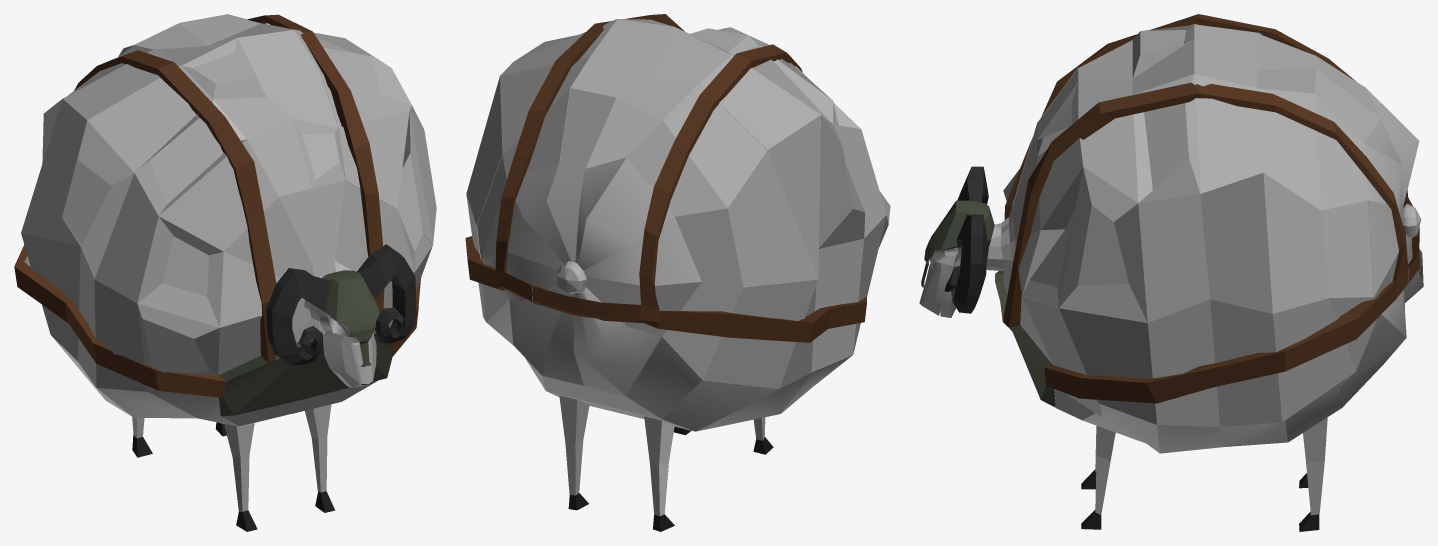
The model's file is Sheep.fbx.
3 renders of one model, left to right at view 1: azimuth 30°, elevation 25°; view 2: azimuth 150°, elevation 25°; view 3: azimuth 270°, elevation 25°, orthographic. The views are drawn at different scales.
Visible parts, largest first — view 1: Sheep1; view 2: Sheep1; view 3: Sheep1.
Part boxes in pixels (x1,y1,x2,y2): Sheep1: (14,14,436,531); Sheep1: (465,14,890,531); Sheep1: (919,14,1423,531).
Size of the model in its own units: 28.65 by 34.42 by 33.61.
